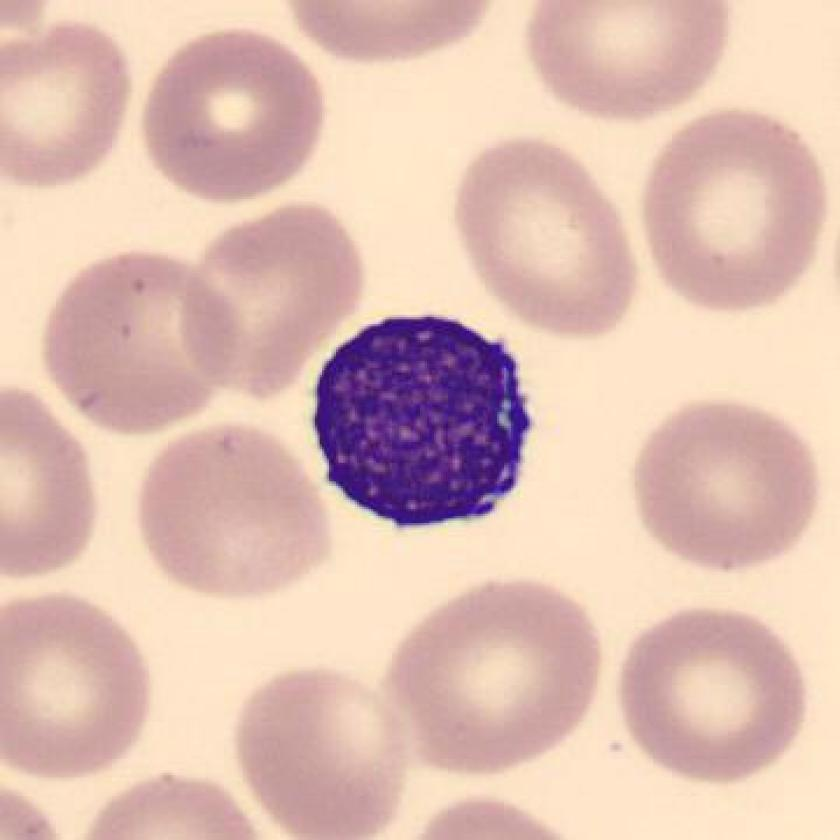lymphocyte: (295, 293, 547, 559)
